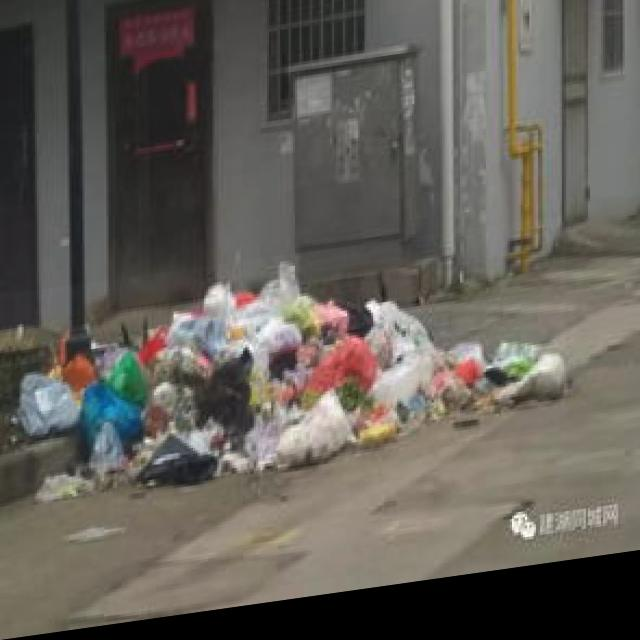garbage: (15, 232, 566, 505)
